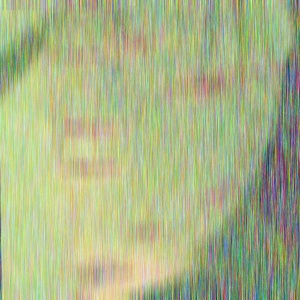Bacterial_Leaf_Blight: (47, 154, 136, 183), (165, 76, 245, 104), (54, 115, 134, 142), (117, 219, 191, 245), (66, 262, 147, 284), (40, 44, 113, 67), (104, 34, 165, 56), (232, 58, 279, 83), (189, 64, 237, 88), (197, 184, 247, 206), (107, 22, 167, 37), (174, 194, 208, 210), (208, 273, 236, 286), (211, 227, 236, 241), (69, 2, 116, 9), (11, 213, 33, 223), (2, 258, 12, 277)
